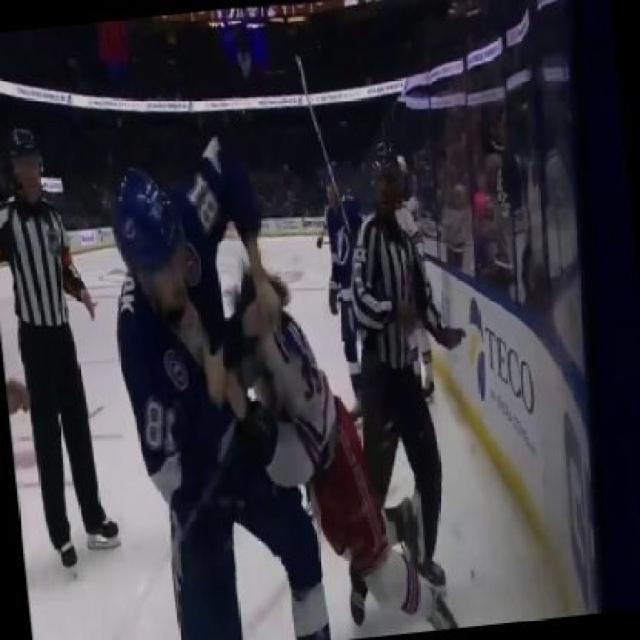fight: (111, 140, 457, 640)
non-fight: (334, 146, 469, 626), (0, 122, 116, 554)
